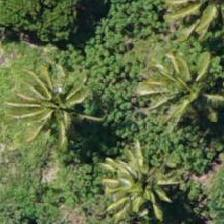coconut_tree: (5, 60, 95, 150), (92, 140, 182, 223), (154, 42, 223, 132), (161, 0, 223, 46)
